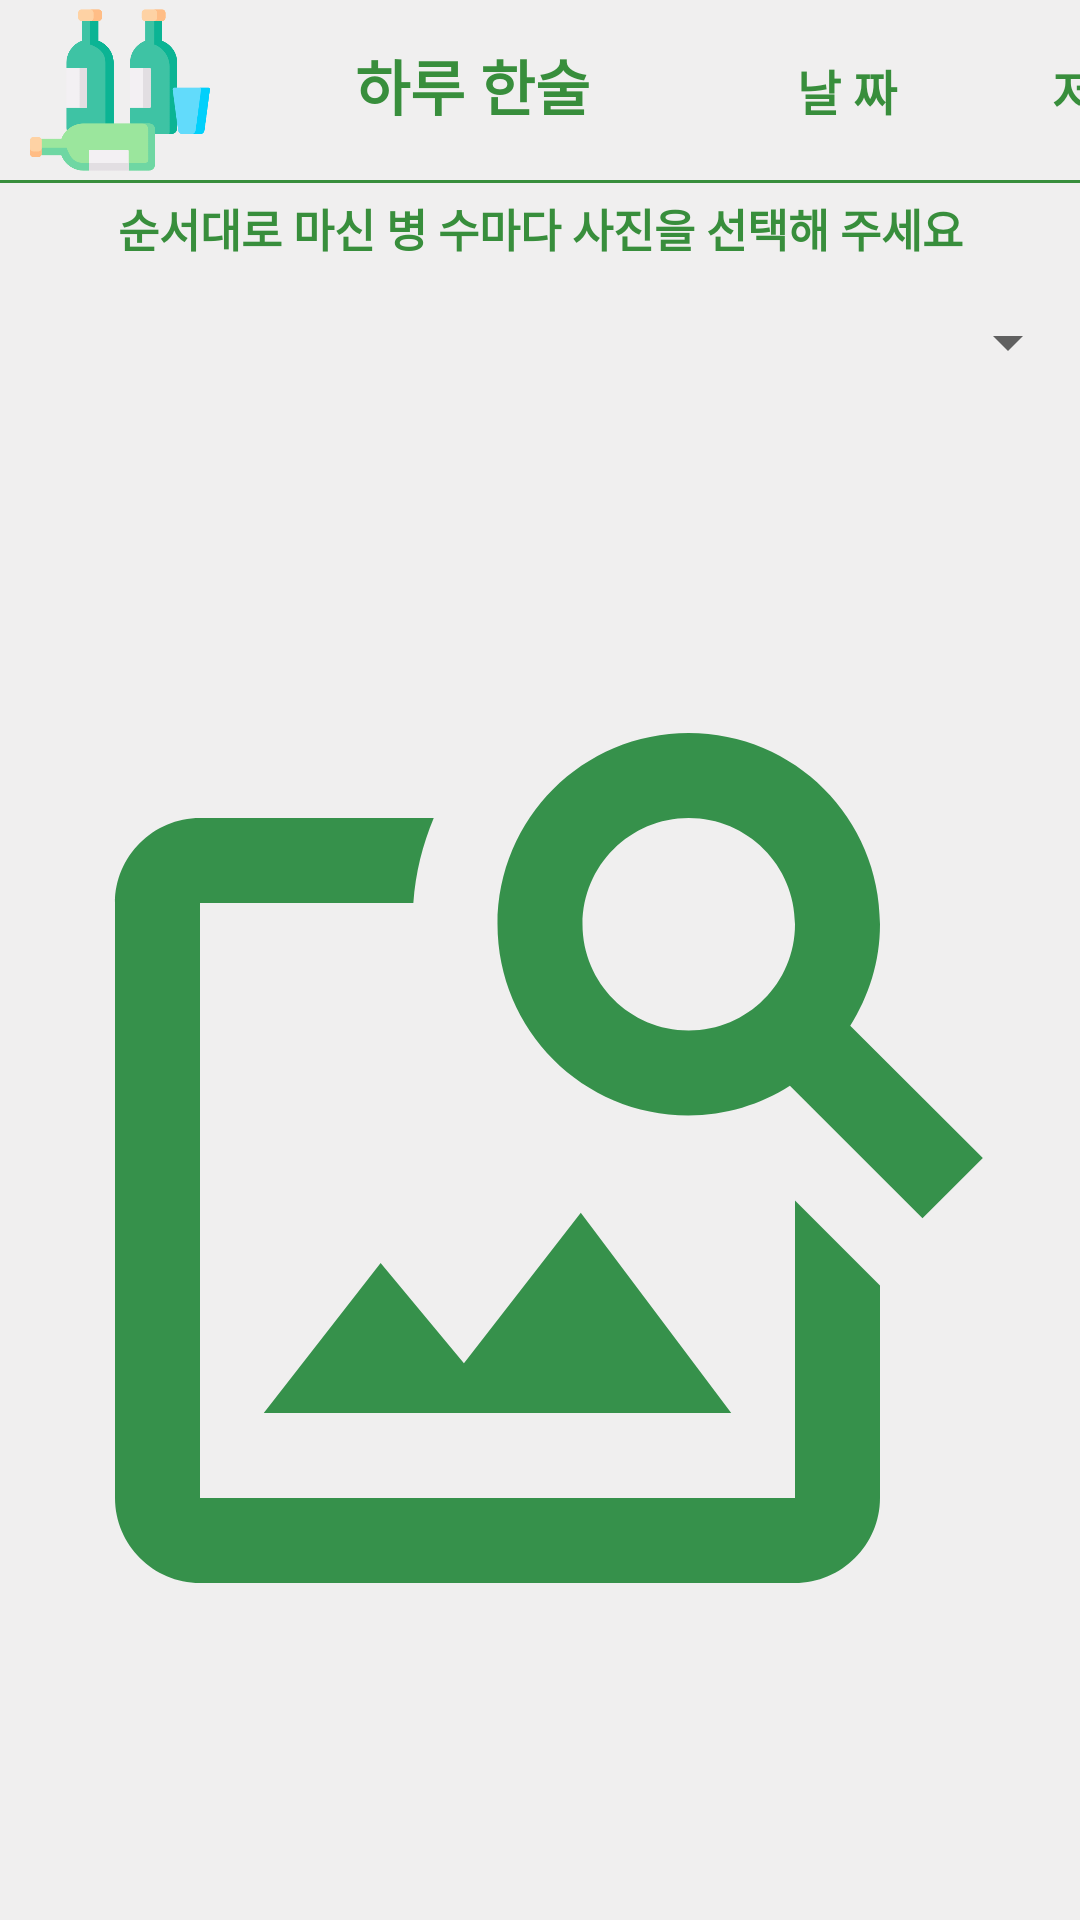

Named icons in this screenshot (1080 × 1920) and their bounding boxes, Rect(x1, y1, x2, y2):
drunk: Rect(30, 9, 210, 171)
